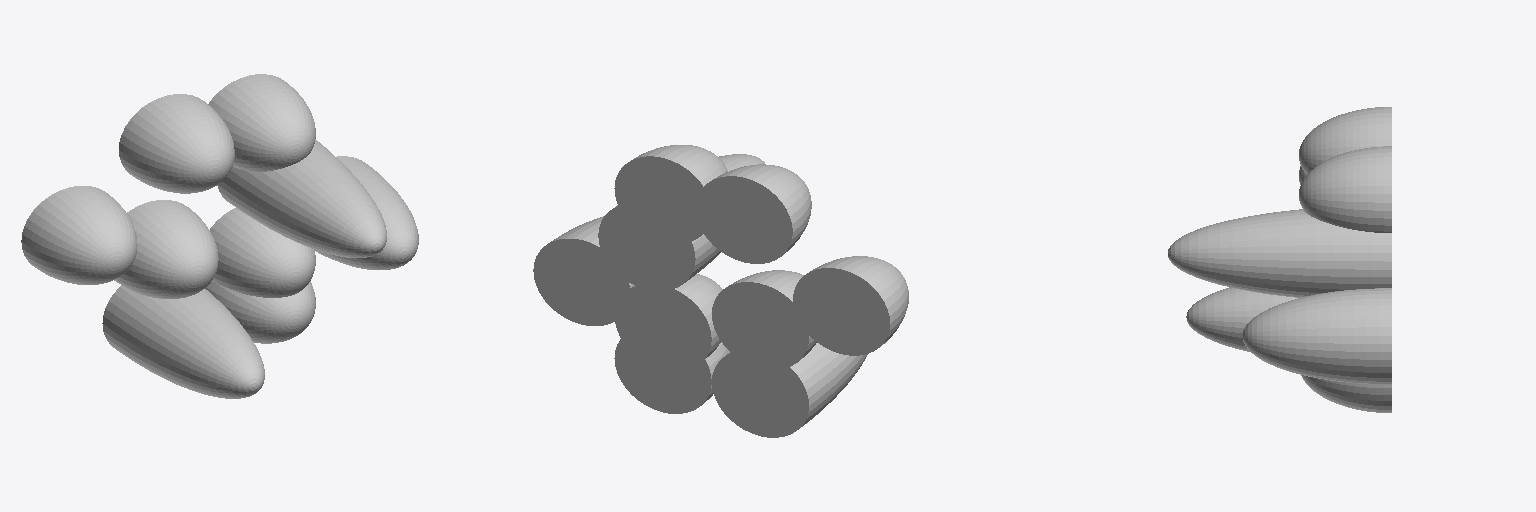
Rendered from fire.obj.
The picture shows the model from 3 angles: view 1: azimuth 30°, elevation 25°; view 2: azimuth 150°, elevation 25°; view 3: azimuth 270°, elevation 25°; orthographic projection.
Visible parts, largest first — view 1: obj_0; view 2: obj_0; view 3: obj_0.
Boxes of the visible parts, <box> form: obj_0: <box>21,74,418,398</box>; obj_0: <box>533,145,908,437</box>; obj_0: <box>1168,107,1391,412</box>.
Bounding box in the file's own units: 22 × 15 × 12.